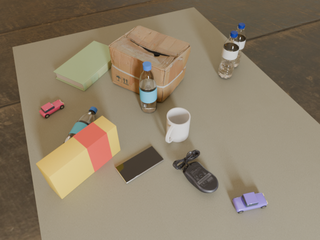book: (53, 41, 112, 91)
bottle: (63, 107, 97, 144), (218, 31, 240, 79), (139, 61, 157, 113), (234, 23, 246, 67)
box: (36, 116, 120, 199), (109, 26, 191, 102)
cup: (166, 108, 190, 143)
mouse: (173, 150, 218, 193)
phone: (116, 146, 164, 183)
toy_car: (233, 192, 268, 213), (39, 100, 64, 118)
